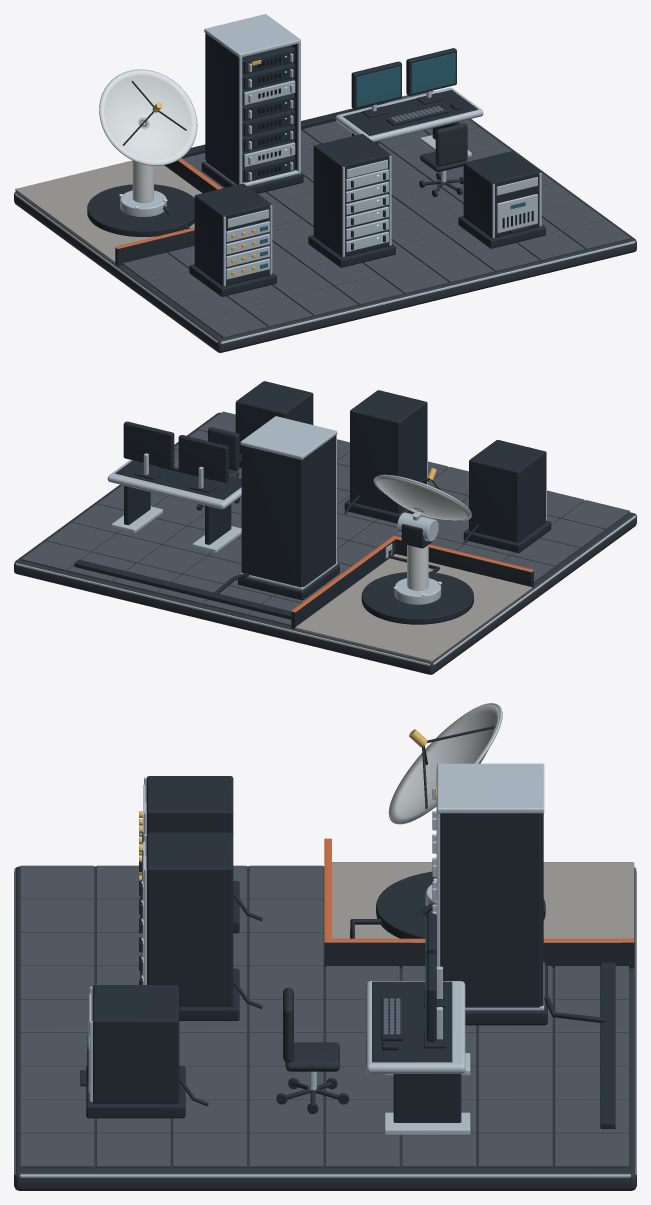
The model's file is ground.glb.
The picture shows the model from 3 angles, top to bottom: view 1: azimuth 30°, elevation 25°; view 2: azimuth 150°, elevation 25°; view 3: azimuth 270°, elevation 25°; orthographic projection. The views are drawn at different scales.
Visible parts, largest first — view 1: Floor — Raised-floor panels as drawn, Process — Black anodized aluminum, Floor — Satin graphite raised floor, Receive — Pale radiator finish.001, Archive — Black anodized aluminum, Process — Machined aluminum, Floor — Outdoor concrete pad as drawn, Receiver — Black anodized aluminum, Power — Black anodized aluminum, Operations — Black anodized aluminum, Archive — Machined aluminum, Receive — Black anodized aluminum (+12 smaller); view 2: Floor — Raised-floor panels as drawn, Process — Black anodized aluminum, Floor — Outdoor concrete pad as drawn, Floor — Satin graphite raised floor, Archive — Black anodized aluminum, Receiver — Black anodized aluminum, Operations — Black anodized aluminum, Floor — Black anodized aluminum, Receive — Black anodized aluminum, Power — Black anodized aluminum, Process — Machined aluminum, Operations — Machined aluminum (+6 smaller); view 3: Floor — Raised-floor panels as drawn, Process — Black anodized aluminum, Floor — Satin graphite raised floor, Archive — Black anodized aluminum, Power — Black anodized aluminum, Floor — Outdoor concrete pad as drawn, Operations — Black anodized aluminum, Process — Machined aluminum, Floor — Black anodized aluminum, Receiver — Black anodized aluminum, Operations — Machined aluminum, Receive — Pale radiator finish.001 (+5 smaller).
Part boxes in pixels (x1,y1,x2,y2): Floor — Raised-floor panels as drawn: (122,92,629,338); Process — Black anodized aluminum: (201,33,303,193); Floor — Satin graphite raised floor: (14,91,636,352); Receive — Pale radiator finish.001: (101,70,196,163); Archive — Black anodized aluminum: (308,134,395,267); Process — Machined aluminum: (204,14,300,186); Floor — Outdoor concrete pad as drawn: (15,160,201,264); Receiver — Black anodized aluminum: (189,183,276,296); Power — Black anodized aluminum: (458,151,545,248); Operations — Black anodized aluminum: (343,48,478,196); Archive — Machined aluminum: (342,155,391,256); Receive — Black anodized aluminum: (87,184,194,236); Floor — Raised-floor panels as drawn: (21,411,629,626); Process — Black anodized aluminum: (214,435,339,600); Floor — Outdoor concrete pad as drawn: (295,554,532,662); Floor — Satin graphite raised floor: (14,412,636,674); Archive — Black anodized aluminum: (344,390,426,523); Receiver — Black anodized aluminum: (463,440,551,552); Operations — Black anodized aluminum: (115,421,241,544); Floor — Black anodized aluminum: (74,539,533,629); Receive — Black anodized aluminum: (361,524,473,624); Power — Black anodized aluminum: (235,381,312,467); Process — Machined aluminum: (240,416,337,589); Operations — Machined aluminum: (107,453,241,552); Floor — Raised-floor panels as drawn: (20,865,628,1167); Process — Black anodized aluminum: (440,813,606,1025); Floor — Satin graphite raised floor: (14,866,636,1190); Archive — Black anodized aluminum: (139,832,262,1020); Power — Black anodized aluminum: (80,985,208,1118); Floor — Outdoor concrete pad as drawn: (332,862,634,938); Operations — Black anodized aluminum: (276,913,461,1122); Process — Machined aluminum: (432,763,544,1010); Floor — Black anodized aluminum: (324,943,634,1128); Receiver — Black anodized aluminum: (140,776,262,933); Operations — Machined aluminum: (308,966,470,1135); Receive — Pale radiator finish.001: (389,704,499,821).
Bounding box in the file's own units: 8.1 × 2.93 × 6.9.
